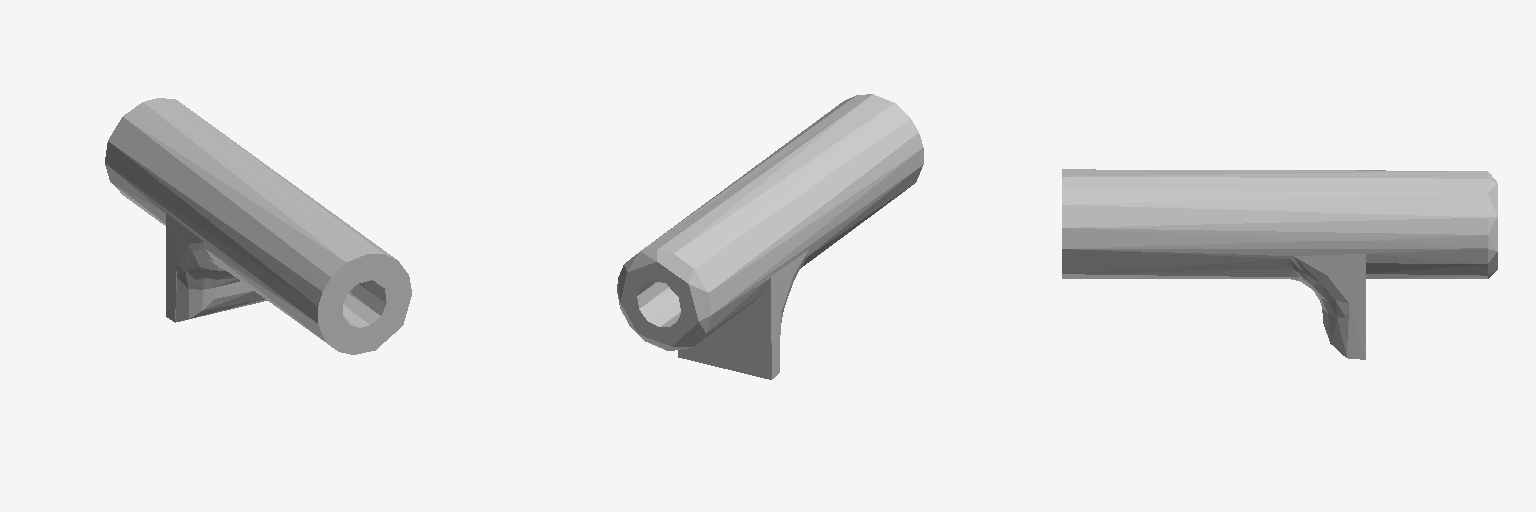
File: case.obj
3 views of the same model, side by side, from view 1: azimuth 30°, elevation 25°; view 2: azimuth 150°, elevation 25°; view 3: azimuth 270°, elevation 25° (orthographic).
Visible parts, largest first — view 1: Piston_sleeve; view 2: Piston_sleeve; view 3: Piston_sleeve.
Part boxes in pixels (x1,y1,x2,y2): Piston_sleeve: (105,98,411,354); Piston_sleeve: (617,94,923,379); Piston_sleeve: (1062,169,1497,359).
Size of the model in its own units: 0.0321 by 0.0526 by 0.1277.